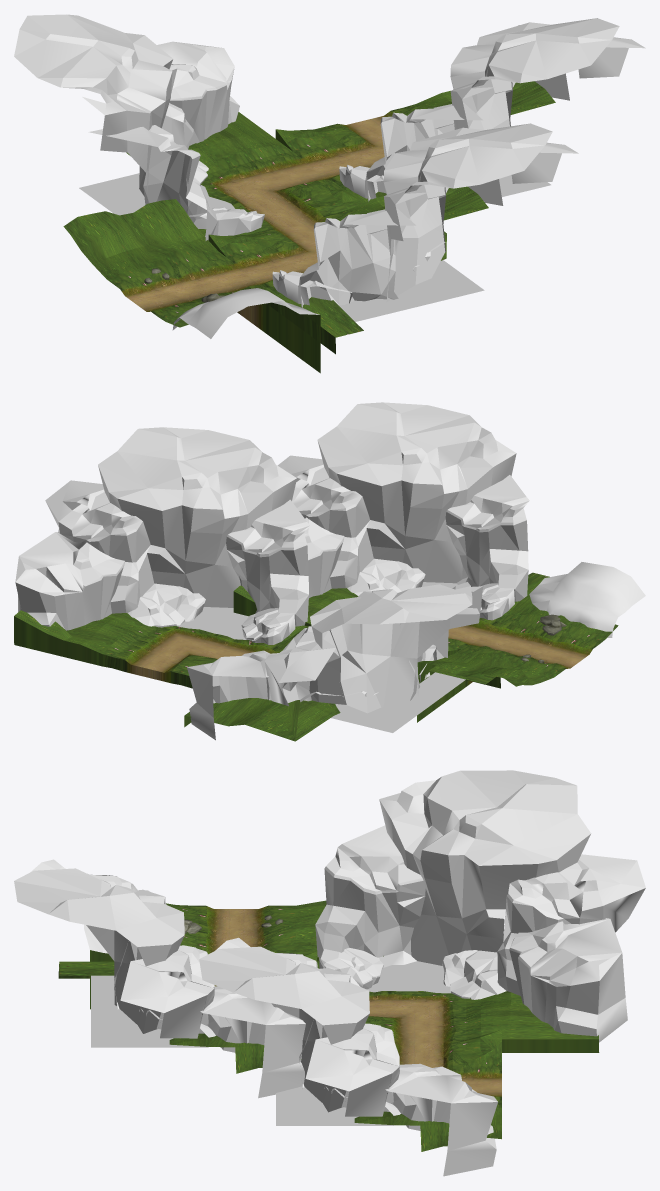
3 renders of one model, top to bottom at view 1: azimuth 30°, elevation 25°; view 2: azimuth 150°, elevation 25°; view 3: azimuth 270°, elevation 25°, orthographic. The views are drawn at different scales.
Visible parts, largest first — view 1: Jungle_TurnLeft, Jungle_TurnRight_1, Jungle_TurnRight, Jungle_Straight_180m_01; view 2: Jungle_TurnRight, Jungle_TurnRight_1, Jungle_TurnLeft, Jungle_Straight_180m_01; view 3: Jungle_TurnLeft, Jungle_TurnRight, Jungle_TurnRight_1, Jungle_Straight_180m_01.
Part boxes in pixels (x1,y1,x2,y2): Jungle_TurnLeft: (14,14,362,240); Jungle_TurnRight_1: (208,123,578,354); Jungle_TurnRight: (275,18,645,202); Jungle_Straight_180m_01: (63,199,320,373); Jungle_TurnRight: (14,427,309,688); Jungle_TurnRight_1: (233,402,549,655); Jungle_TurnLeft: (184,582,500,741); Jungle_Straight_180m_01: (417,562,645,722); Jungle_TurnLeft: (315,770,645,1052); Jungle_TurnRight: (199,937,501,1176); Jungle_TurnRight_1: (14,859,316,1098); Jungle_Straight_180m_01: (84,883,383,1009).
Bounding box in the file's own units: 88280 × 29863 × 86372.
